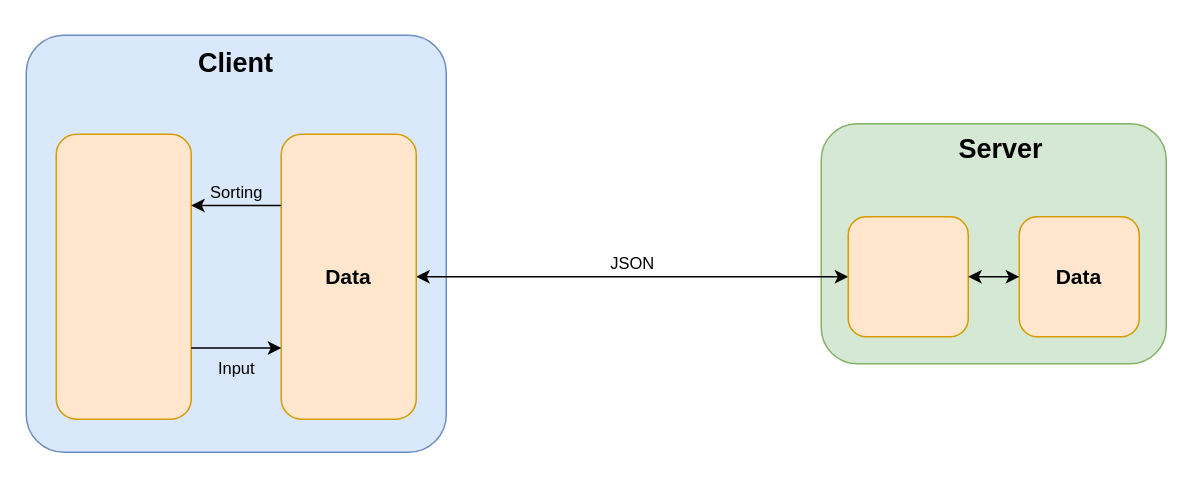
The diagram is 1193 pixels wide and 479 high, and some of its shapes have lost their labels. Here are the shapes that lost their labels. From the top down, the box of each, then its label:
(55, 133, 191, 419): User Interface
(847, 215, 968, 337): Client Interface
